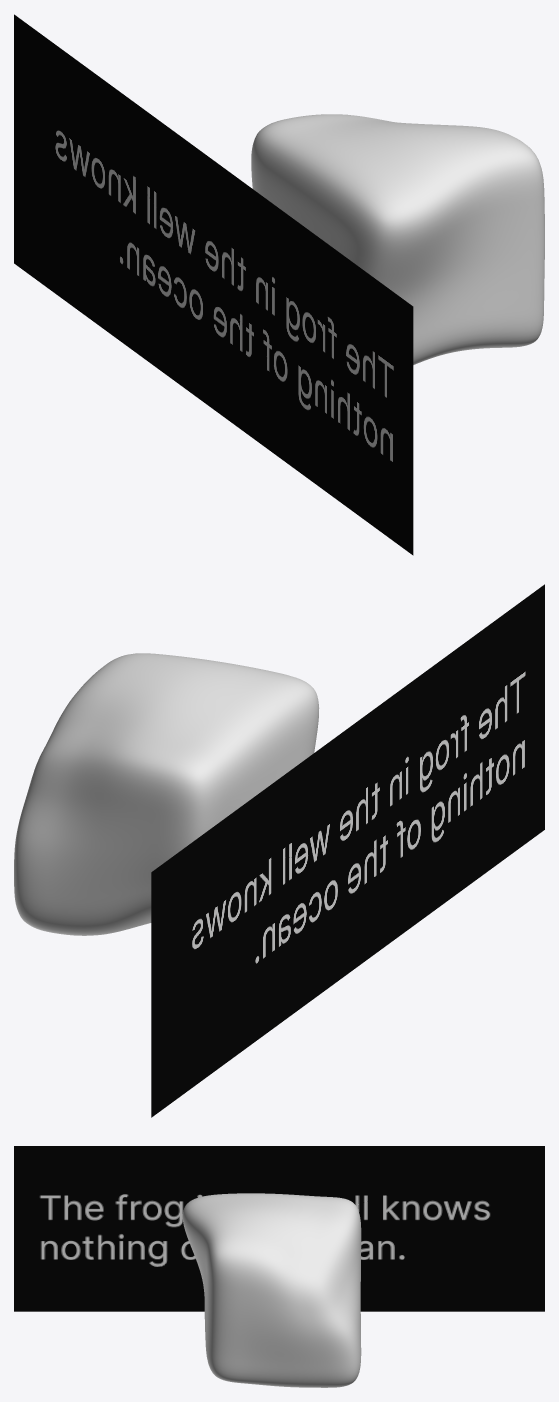
Rendered from whole_scene.glb.
The picture shows the model from 3 angles, top to bottom: view 1: azimuth 30°, elevation 25°; view 2: azimuth 150°, elevation 25°; view 3: azimuth 270°, elevation 25°; orthographic projection. The views are drawn at different scales.
Visible parts, largest first — view 1: text_title, Cube; view 2: text_title, Cube; view 3: text_title, Cube.
Part boxes in pixels (x1,y1,x2,y2): text_title: (14,14,413,555); Cube: (251,114,544,364); text_title: (151,584,544,1117); Cube: (14,653,319,935); text_title: (14,1146,544,1311); Cube: (182,1193,361,1387).
Size of the model in its own units: 1.26 by 1 by 2.91.
Materials: 2 (1 with a texture image).
